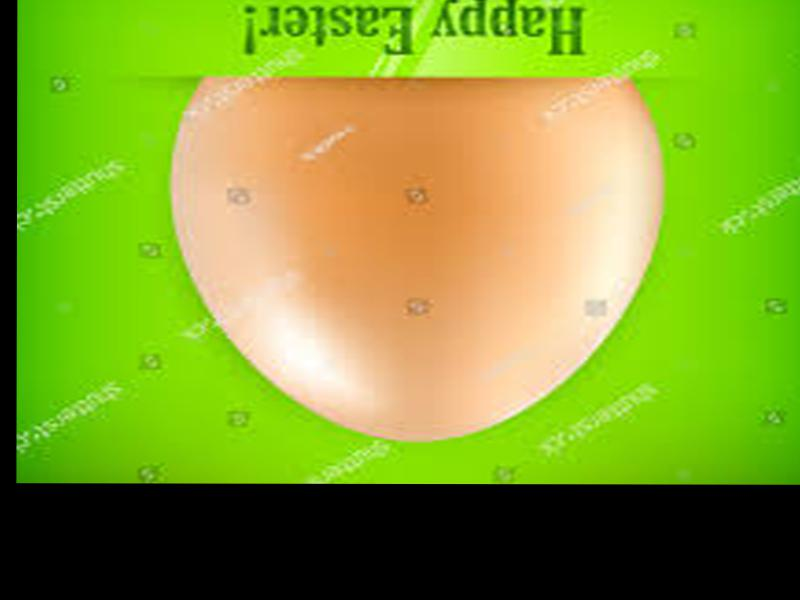Eggs: (170, 76, 661, 442)
